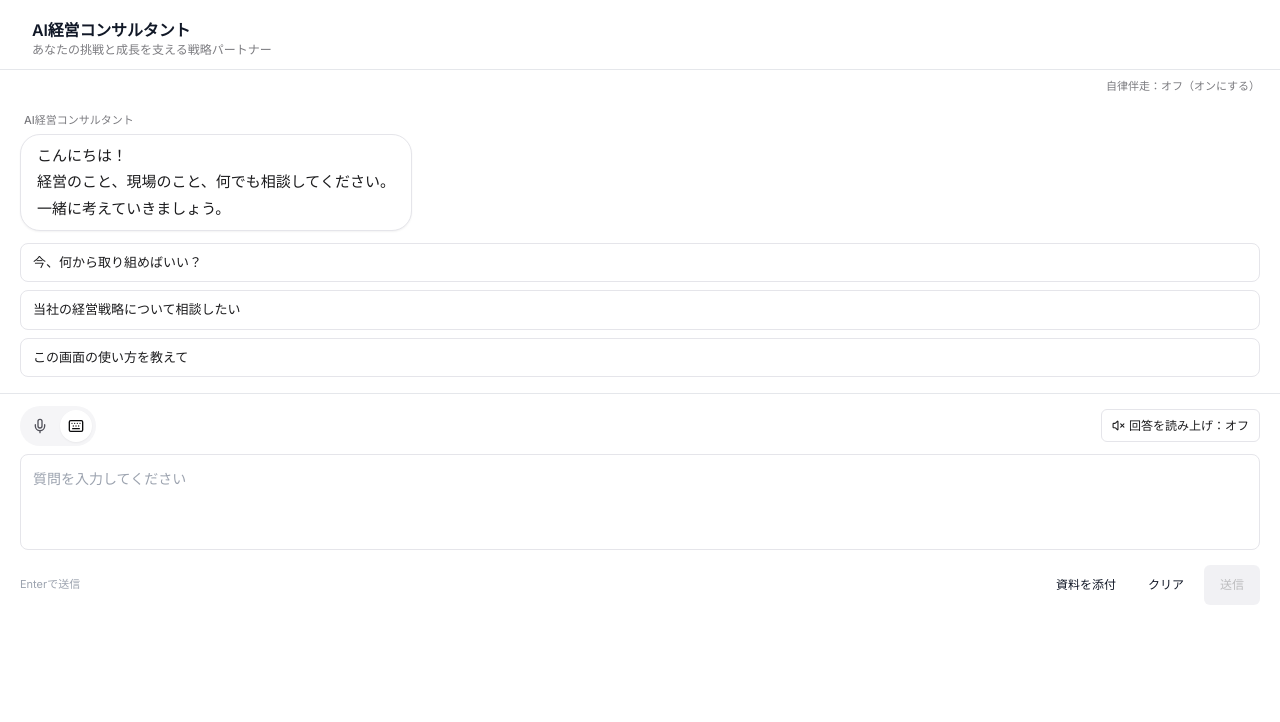
Test case: 自律伴走：重複発話と上限 › 論点を保存すると、分析完了の節目として助言を一度だけ依頼する。それ以外の時はAIを呼ばない
Expected: the text box is enabled, [20,454,1260,550]
Click the button "自律伴走：オフ（オンにする）". click: point(1183, 87)
box: [1106,78,1260,96]
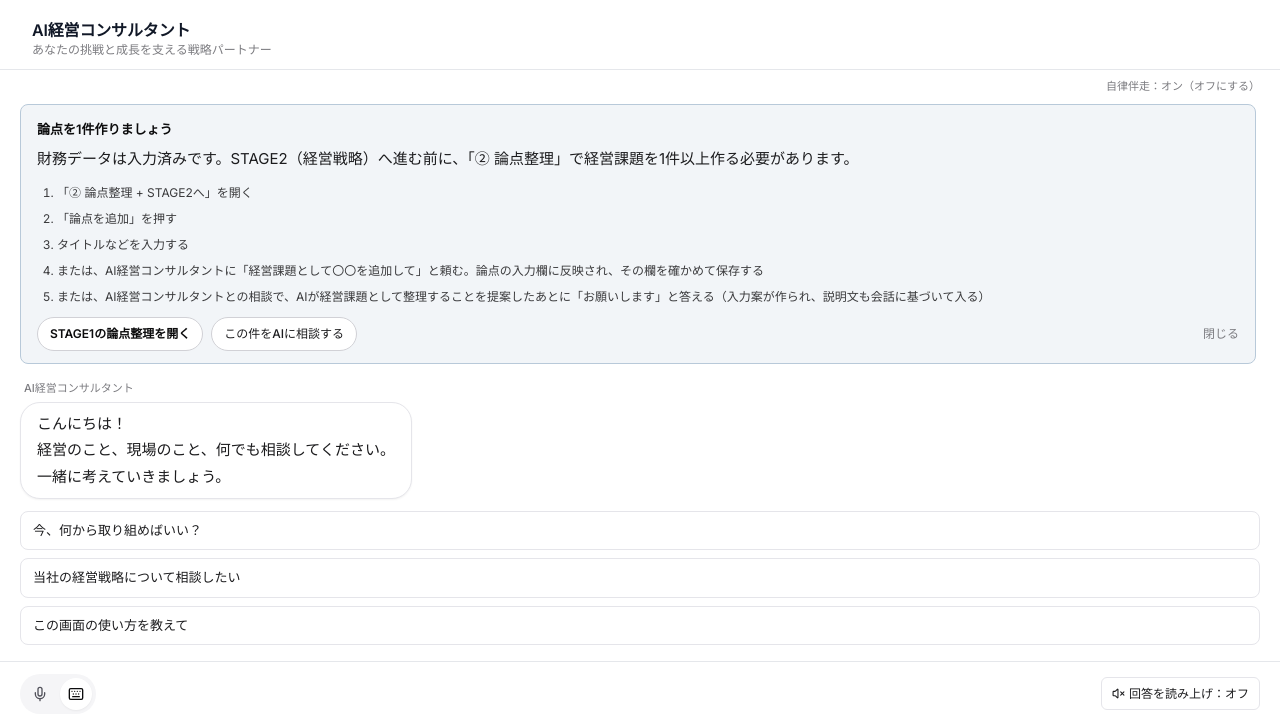
Result: the element named "AI経営コンサルタントからの案内" shows "論点を1件作りましょう" at [37,121,172,137]
